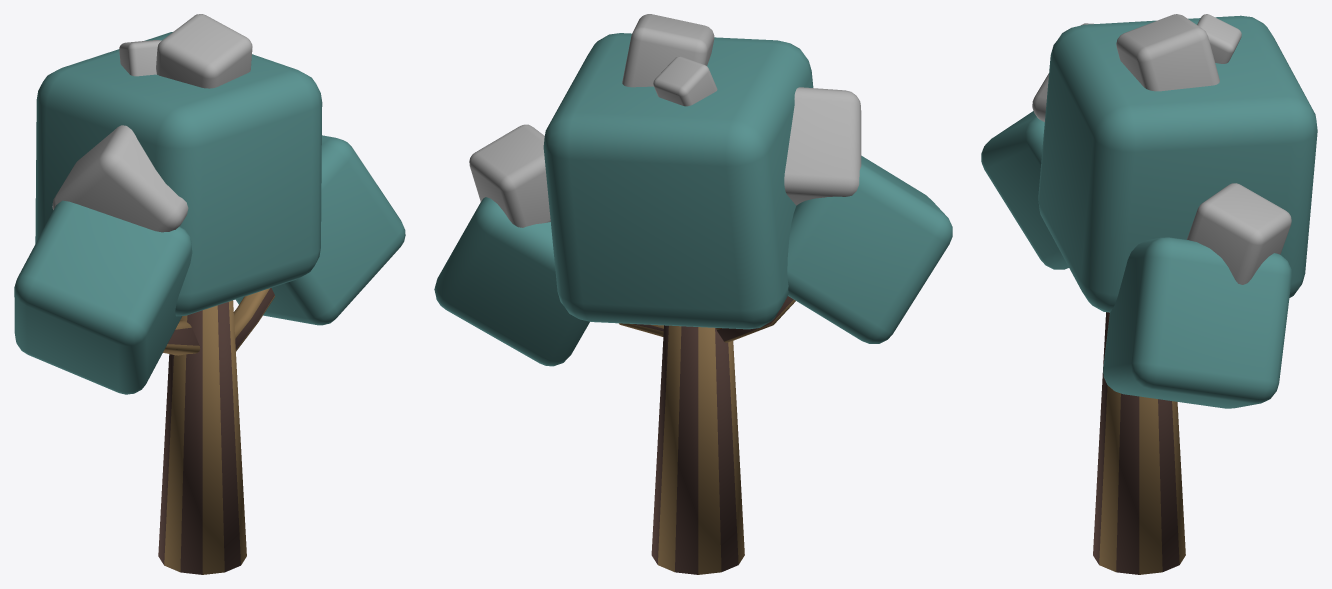
Rendered from treeMellow.fbx.
The picture shows the model from 3 angles, left to right: view 1: azimuth 30°, elevation 25°; view 2: azimuth 150°, elevation 25°; view 3: azimuth 270°, elevation 25°; orthographic projection. The views are drawn at different scales.
Parts seen in each view (by area): view 1: Roundcube, Cube.001, Roundcube.003; view 2: Roundcube, Cube.001, Roundcube.003; view 3: Roundcube, Cube.001, Roundcube.003.
Part boxes in pixels (x1,y1,x2,y2): Roundcube: (14,32,405,394); Cube.001: (158,288,274,574); Roundcube.003: (52,14,252,232); Roundcube: (434,33,952,366); Cube.001: (619,296,795,574); Roundcube.003: (469,14,861,227); Roundcube: (981,15,1317,408); Cube.001: (1093,312,1185,574); Roundcube.003: (1032,14,1291,284).
Size of the model in its own units: 1090 by 1281 by 724.
